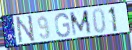0: (91, 7, 108, 35)
1: (107, 6, 119, 33)
9: (37, 15, 51, 40)
G: (54, 12, 72, 39)
M: (69, 9, 93, 38)
N: (16, 14, 36, 44)
